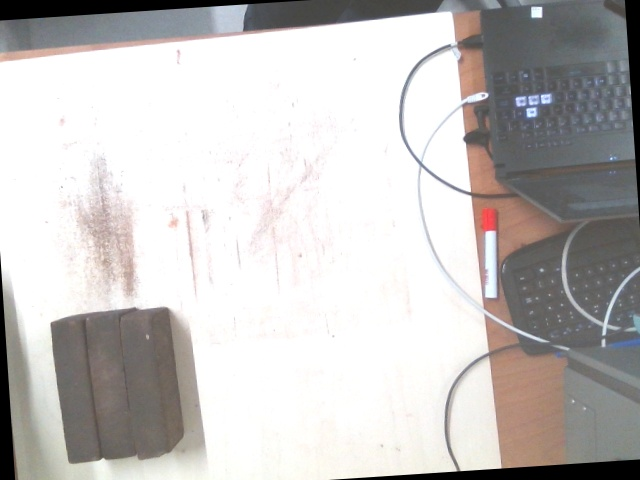brick-side: (118, 317, 167, 460), (84, 316, 133, 459), (49, 323, 98, 465)
